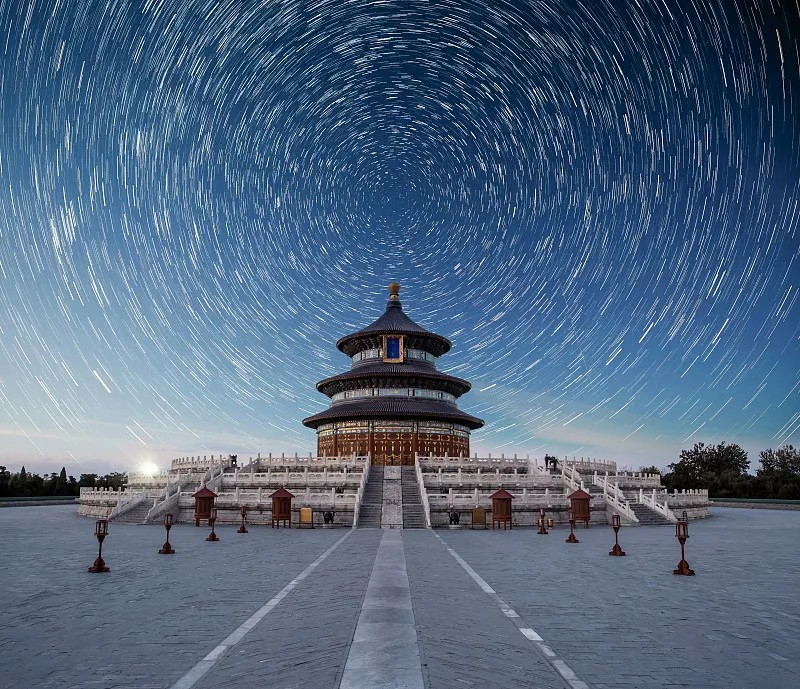Heaven: (301, 284, 485, 458)
